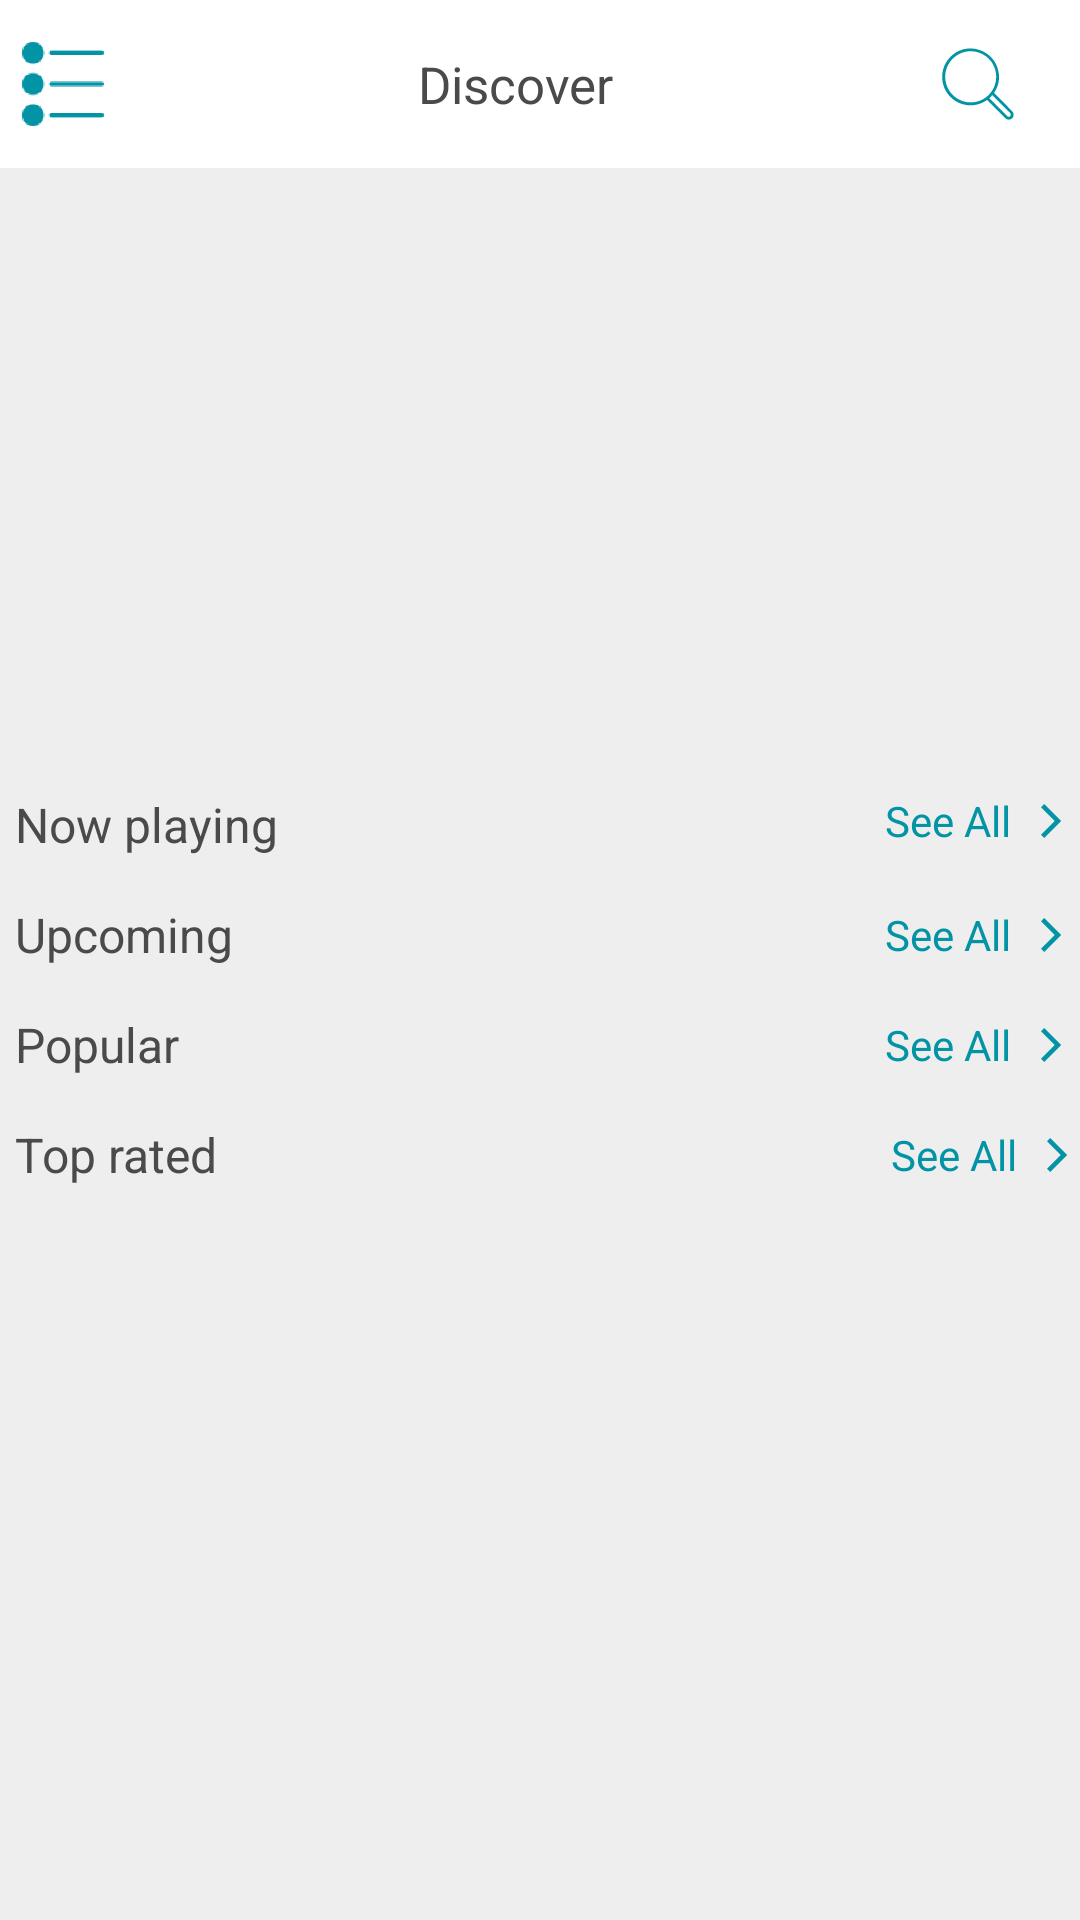

Icons on this 1080x1920 Android screen, each with the point to tap as [x,y]:
menu: [62,84]
search: [978,84]
